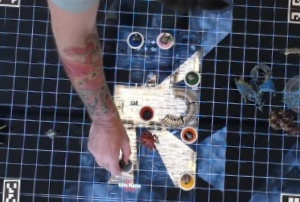blue: (125, 29, 147, 50)
green: (182, 68, 199, 87)
orange: (177, 124, 198, 145)
pink: (153, 31, 175, 49)
red: (138, 103, 158, 123)
violet: (110, 155, 134, 175)
yellow: (176, 169, 195, 191)
